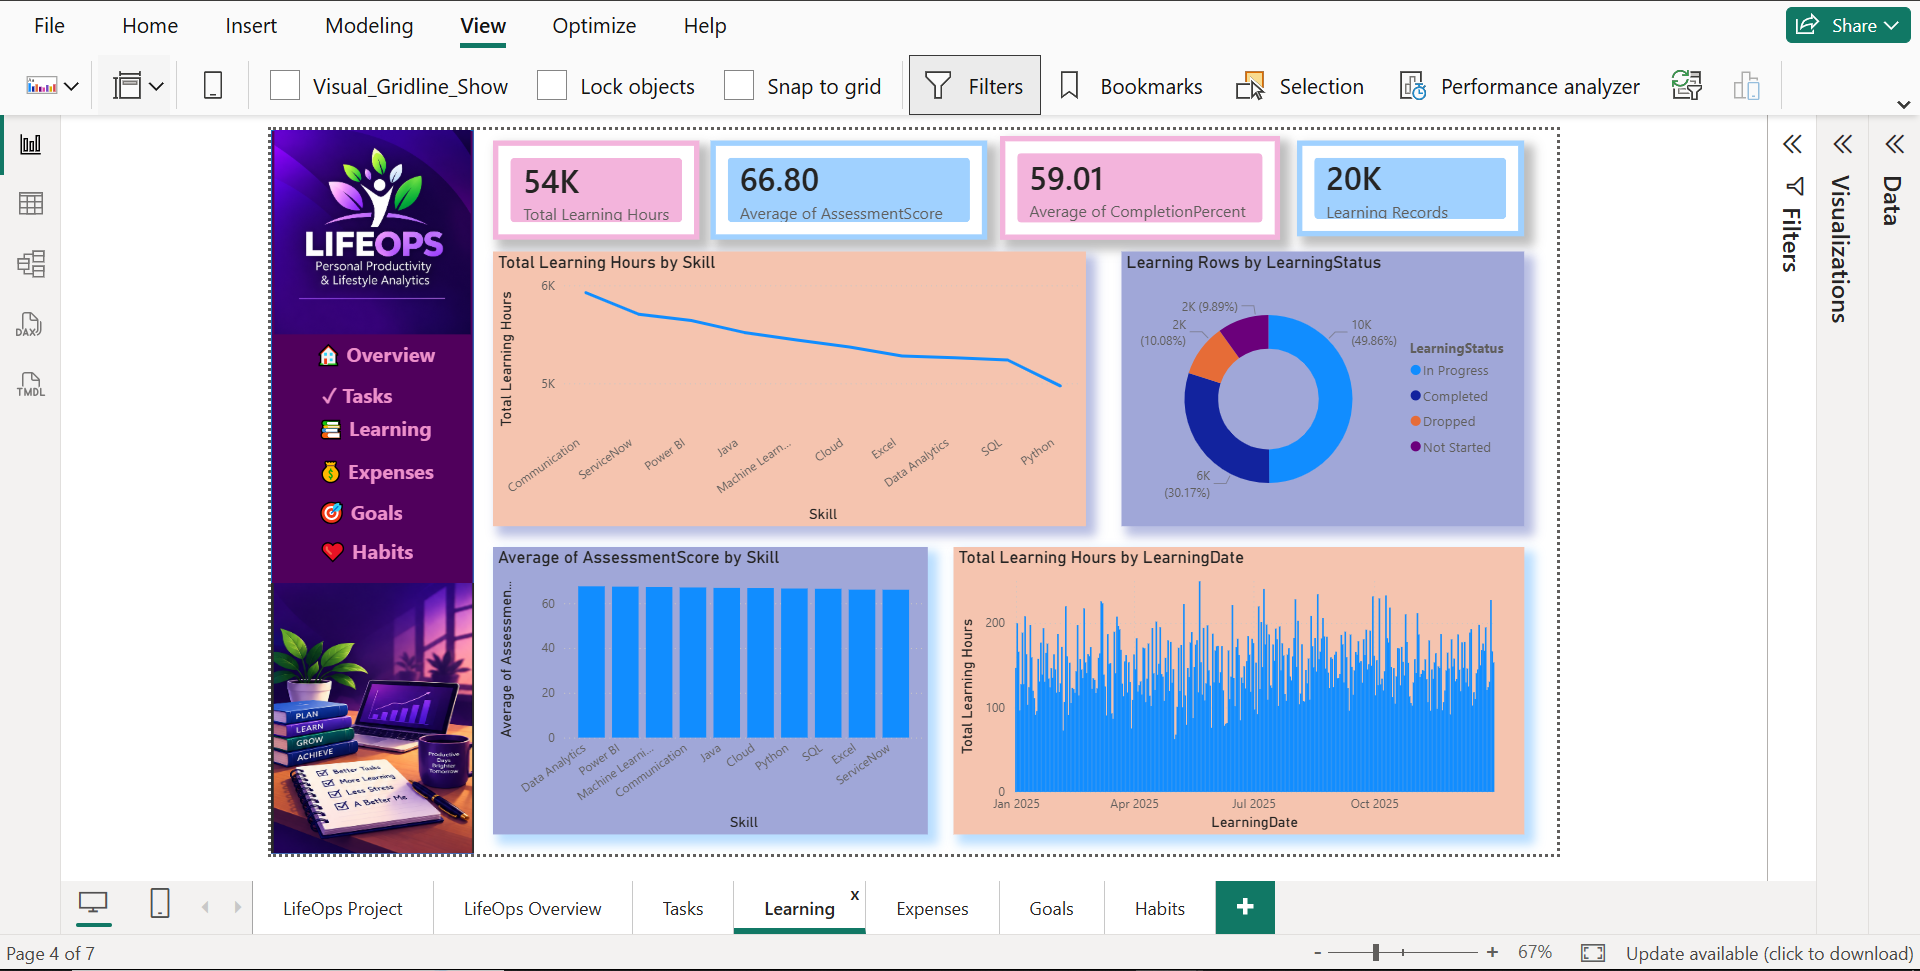

The page's visual inventory and layout, read from the dashboard file:
{"tool":"powerbi","page":{"name":"Learning","canvas":[1280,720],"ordinal":3},"visuals":[{"type":"shape","box":[0,0,201.7,720],"z":0},{"type":"actionButton","box":[22.3,203.6,163.8,39.8],"z":1000},{"type":"actionButton","box":[3.2,243.4,165.4,39.8],"z":2000},{"type":"actionButton","box":[36.6,276.8,132,39.8],"z":3000},{"type":"actionButton","box":[36.6,319.7,135.2,39.8],"z":4000},{"type":"actionButton","box":[6.4,359.5,165.4,39.8],"z":5000},{"type":"actionButton","box":[36.6,399.2,114.5,39.8],"z":6000},{"type":"cardVisual","fields":{"Data":["Learning_fixed.Total Learning Hours"]},"box":[221.1,11.1,205.2,98.6],"z":7000},{"type":"cardVisual","fields":{"Data":["Avg(Learning_fixed.AssessmentScore)"]},"box":[437.4,11.1,275.2,98.6],"z":8000},{"type":"cardVisual","fields":{"Data":["Avg(Learning_fixed.CompletionPercent)"]},"box":[725.3,6.4,278.4,103.4],"z":9000},{"type":"cardVisual","fields":{"Data":["Learning_fixed.Learning Records"]},"box":[1021.2,11.1,225.9,95.4],"z":10000},{"type":"donutChart","fields":{"Category":["Learning_fixed.LearningStatus"],"Y":["Learning_fixed.Learning Rows"]},"box":[846.2,120.9,400.8,273.6],"z":11000},{"type":"lineStackedColumnComboChart","fields":{"Category":["Learning_fixed.LearningDate"],"Y":["Learning_fixed.Total Learning Hours"]},"box":[679.2,415.1,567.8,286.3],"z":12000},{"type":"clusteredColumnChart","fields":{"Category":["Learning_fixed.Skill"],"Y":["Avg(Learning_fixed.AssessmentScore)"]},"box":[221.1,415.1,432.6,286.3],"z":13000},{"type":"lineChart","fields":{"Category":["Learning_fixed.Skill"],"Y":["Learning_fixed.Total Learning Hours"]},"box":[221.1,120.9,590.1,273.6],"z":14000},{"type":"image","box":[0,451.2,202,268.8],"z":14001},{"type":"image","box":[0,0,202,203.6],"z":14002}]}

Visuals, with their boxes on the page's 1280x720 design canvas (x1, y1, x2, y2). These are canvas units, not pixel positions in the 1920x971 screenshot, which may show the page scaled, cropped or inside an application window:
shape: x1=0, y1=0, x2=202, y2=720
actionButton: x1=22, y1=204, x2=186, y2=243
actionButton: x1=3, y1=243, x2=169, y2=283
actionButton: x1=37, y1=277, x2=169, y2=317
actionButton: x1=37, y1=320, x2=172, y2=360
actionButton: x1=6, y1=360, x2=172, y2=399
actionButton: x1=37, y1=399, x2=151, y2=439
cardVisual - Learning_fixed.Total Learning Hours: x1=221, y1=11, x2=426, y2=110
cardVisual - Avg(Learning_fixed.AssessmentScore): x1=437, y1=11, x2=713, y2=110
cardVisual - Avg(Learning_fixed.CompletionPercent): x1=725, y1=6, x2=1004, y2=110
cardVisual - Learning_fixed.Learning Records: x1=1021, y1=11, x2=1247, y2=106
donutChart - Learning_fixed.LearningStatus x Learning_fixed.Learning Rows: x1=846, y1=121, x2=1247, y2=394
lineStackedColumnComboChart - Learning_fixed.LearningDate x Learning_fixed.Total Learning Hours: x1=679, y1=415, x2=1247, y2=701
clusteredColumnChart - Learning_fixed.Skill x Avg(Learning_fixed.AssessmentScore): x1=221, y1=415, x2=654, y2=701
lineChart - Learning_fixed.Skill x Learning_fixed.Total Learning Hours: x1=221, y1=121, x2=811, y2=394
image: x1=0, y1=451, x2=202, y2=720
image: x1=0, y1=0, x2=202, y2=204
